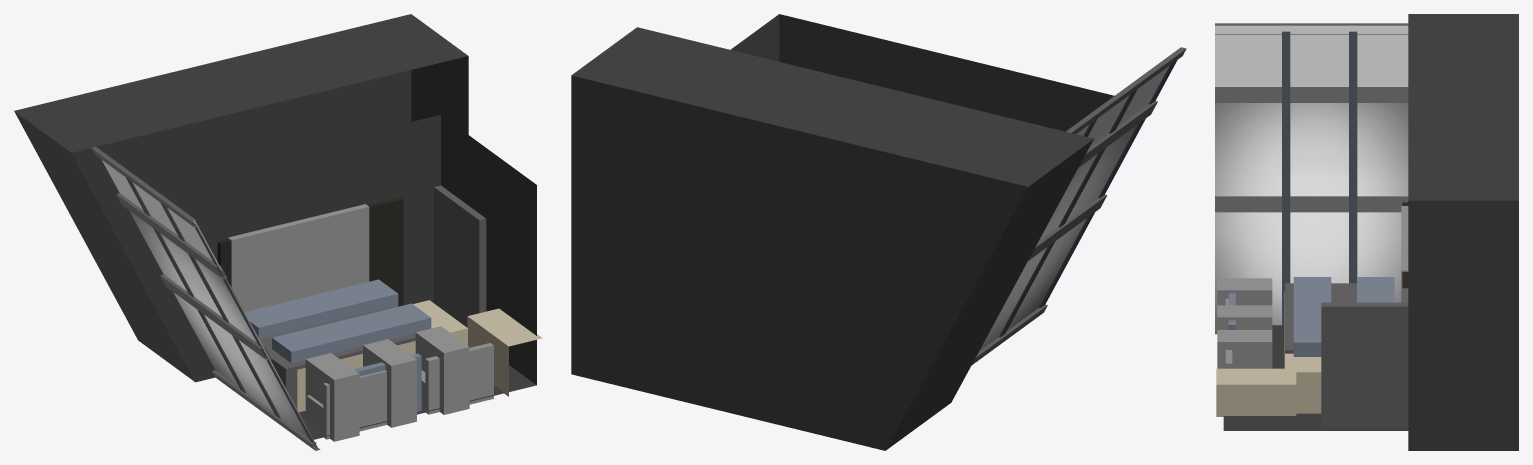
Rendered from Wall_26_Fake_Interior_Askew_Corner.FBX.
The picture shows the model from 3 angles, left to right: view 1: azimuth 30°, elevation 25°; view 2: azimuth 150°, elevation 25°; view 3: azimuth 270°, elevation 25°; orthographic projection. The views are drawn at different scales.
Parts seen in each view (by area): view 1: Wall_26_Fake Interior_Askew_Corner_LOD0, Wall_26_Fake Interior_B, Wall_26_Fake Interior_A, Wall_26_Fake Interior_C; view 2: Wall_26_Fake Interior_Askew_Corner_LOD0; view 3: Wall_26_Fake Interior_Askew_Corner_LOD0, Wall_26_Fake Interior_B, Wall_26_Fake Interior_C, Wall_26_Fake Interior_A.
Boxes of the visible parts, left/top/right/bottom form: Wall_26_Fake Interior_Askew_Corner_LOD0: left=14, top=14, right=536, bottom=450; Wall_26_Fake Interior_B: left=245, top=186, right=485, bottom=441; Wall_26_Fake Interior_A: left=228, top=185, right=493, bottom=439; Wall_26_Fake Interior_C: left=217, top=188, right=542, bottom=411; Wall_26_Fake Interior_Askew_Corner_LOD0: left=571, top=14, right=1186, bottom=450; Wall_26_Fake Interior_Askew_Corner_LOD0: left=1215, top=14, right=1518, bottom=450; Wall_26_Fake Interior_B: left=1217, top=277, right=1404, bottom=427; Wall_26_Fake Interior_C: left=1216, top=202, right=1408, bottom=427; Wall_26_Fake Interior_A: left=1225, top=206, right=1408, bottom=427.
Size of what is drawn, in the model's own units: 288 by 180 by 198.
